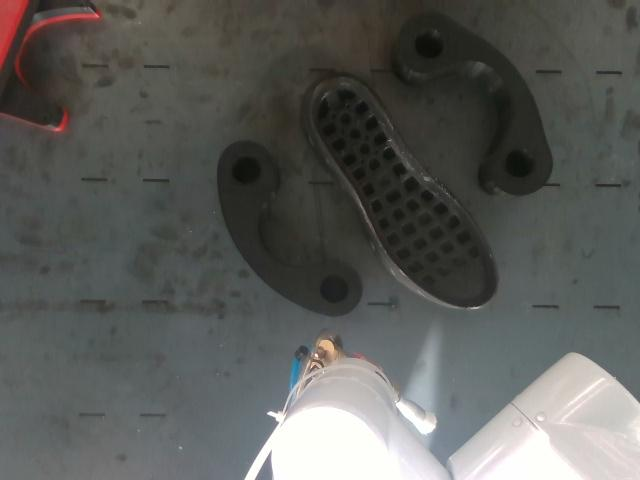shoes: (311, 76, 497, 308)
